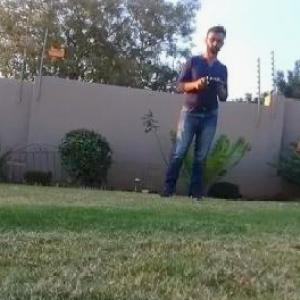follow: (151, 16, 232, 206)
